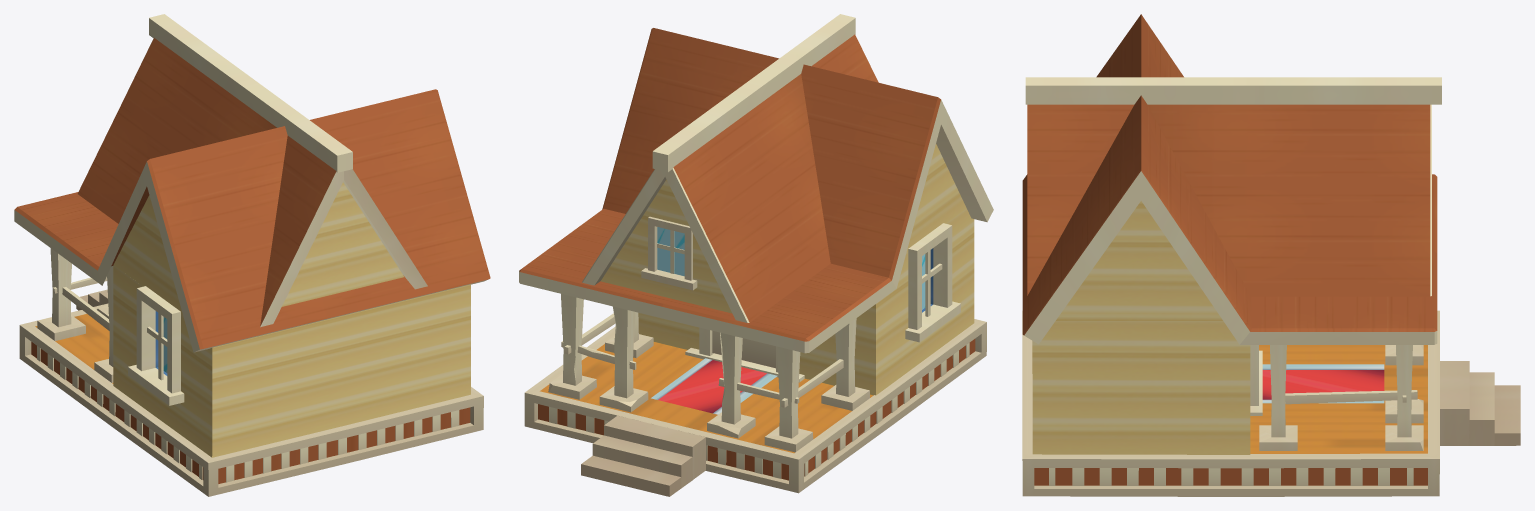
File: House.fbx
3 views of the same model, side by side, from view 1: azimuth 30°, elevation 25°; view 2: azimuth 150°, elevation 25°; view 3: azimuth 270°, elevation 25° (orthographic). The views are drawn at different scales.
Visible parts, largest first — view 1: House; view 2: House; view 3: House.
Boxes of the visible parts, box(x1,y1,x2,y2) form: House: box(14, 14, 490, 496); House: box(519, 14, 993, 496); House: box(1022, 14, 1520, 496).
Size of the model in its own units: 567 by 575 by 760.
